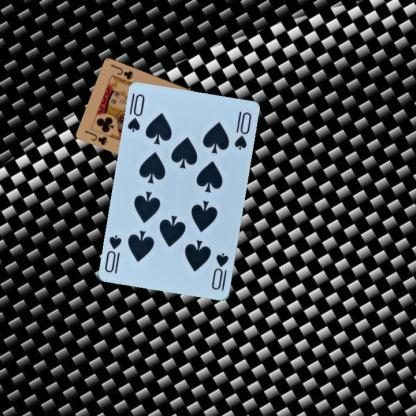10s: (125, 91, 146, 134), (209, 250, 230, 292)
Jc: (83, 127, 109, 146)
